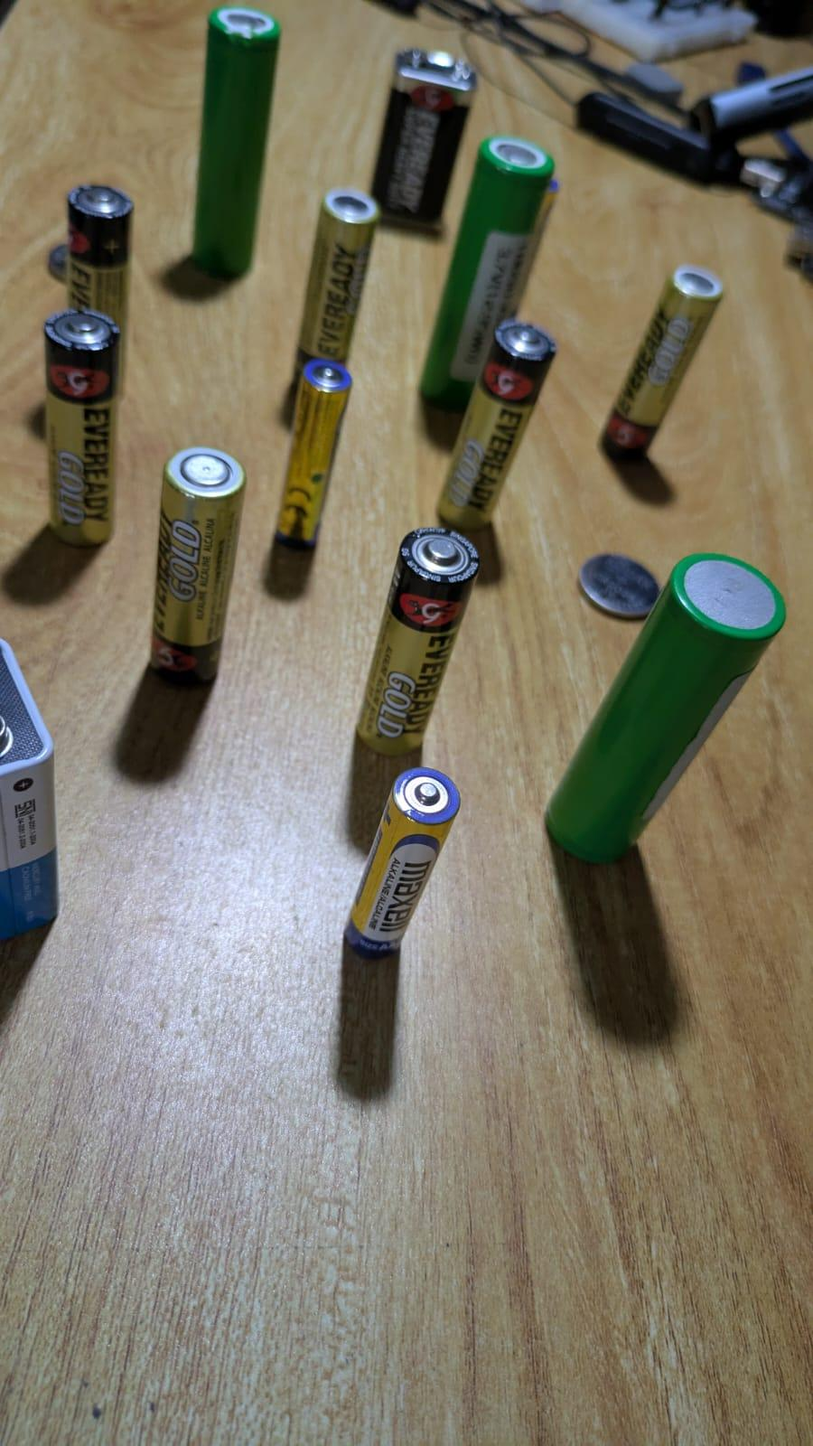9V: (0, 628, 67, 946), (371, 47, 479, 228)
AA: (356, 531, 480, 756), (435, 320, 559, 533), (596, 262, 721, 464), (149, 451, 248, 684), (39, 311, 122, 549), (290, 191, 379, 391), (63, 185, 133, 389)
AAA: (337, 761, 474, 966), (266, 354, 363, 570)
COIN: (575, 551, 666, 620)
